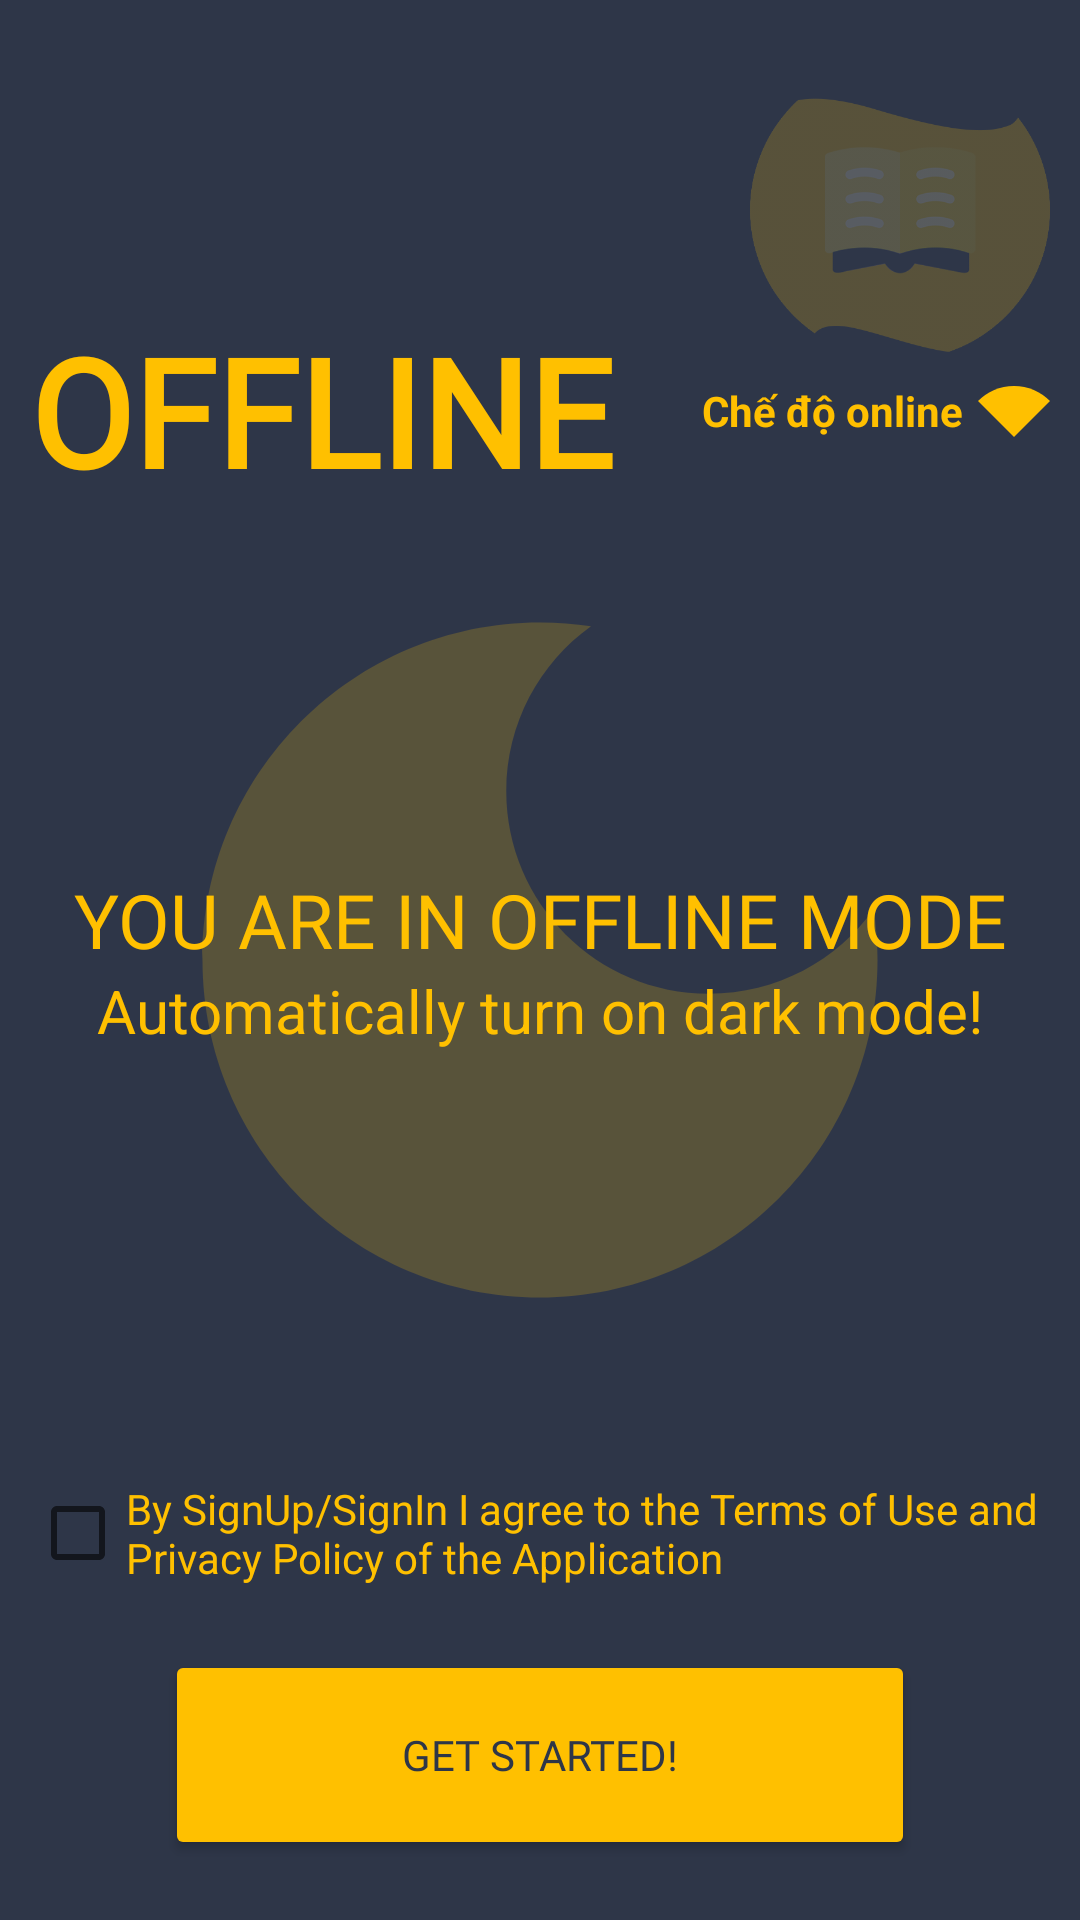

Where to tap for icons on this 1080*1920 app screen, as [x,y]:
wifion: [1014,411]
